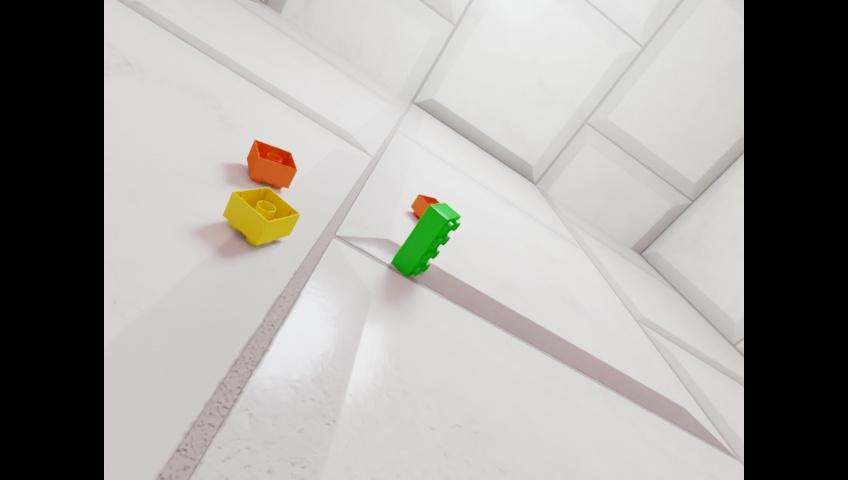2x2_orange: (246, 138, 296, 188), (410, 193, 439, 220)
2x2_yellow: (222, 186, 299, 245)
4x2_green: (390, 202, 460, 276)
